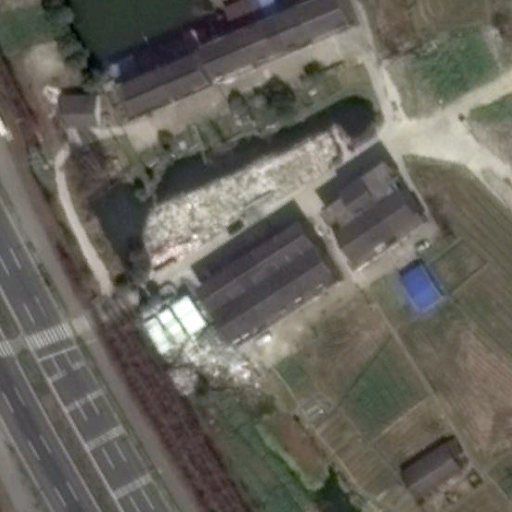msw: (137, 120, 342, 270), (166, 336, 248, 398)
